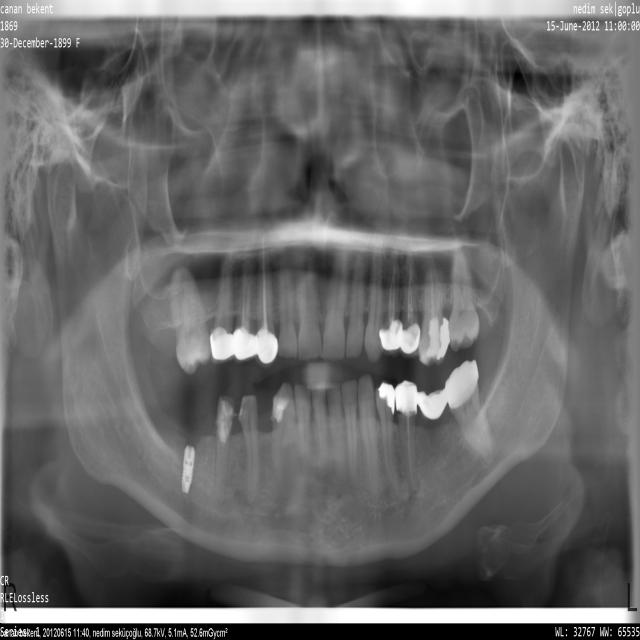Canine: (256, 226, 276, 367), (365, 226, 385, 363), (358, 375, 378, 495), (271, 384, 294, 486)
Incisores: (322, 239, 347, 359), (299, 251, 323, 361), (346, 244, 367, 358), (278, 240, 297, 358), (341, 380, 357, 482), (327, 382, 343, 471), (310, 382, 328, 456), (294, 385, 311, 461)
Premolars: (211, 241, 235, 365), (233, 241, 256, 363), (376, 381, 400, 496), (397, 385, 418, 491), (400, 252, 421, 358), (382, 247, 402, 358), (238, 395, 258, 502), (215, 395, 233, 504)
molars: (447, 366, 492, 466), (172, 268, 210, 373), (449, 234, 479, 352), (419, 268, 446, 366), (418, 391, 456, 457)
